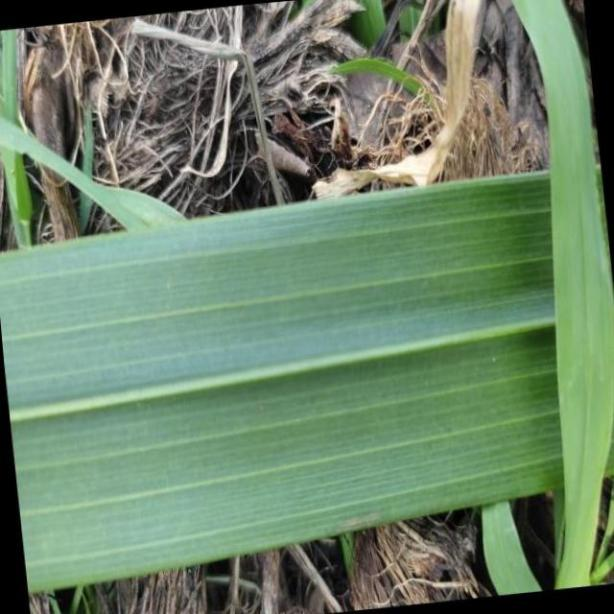Healthy: (0, 171, 614, 598)
